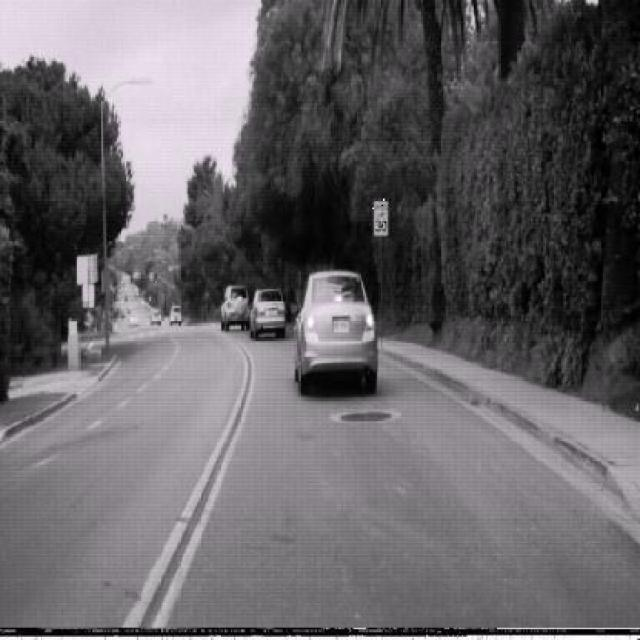speedLimit30: (374, 198, 389, 236)
